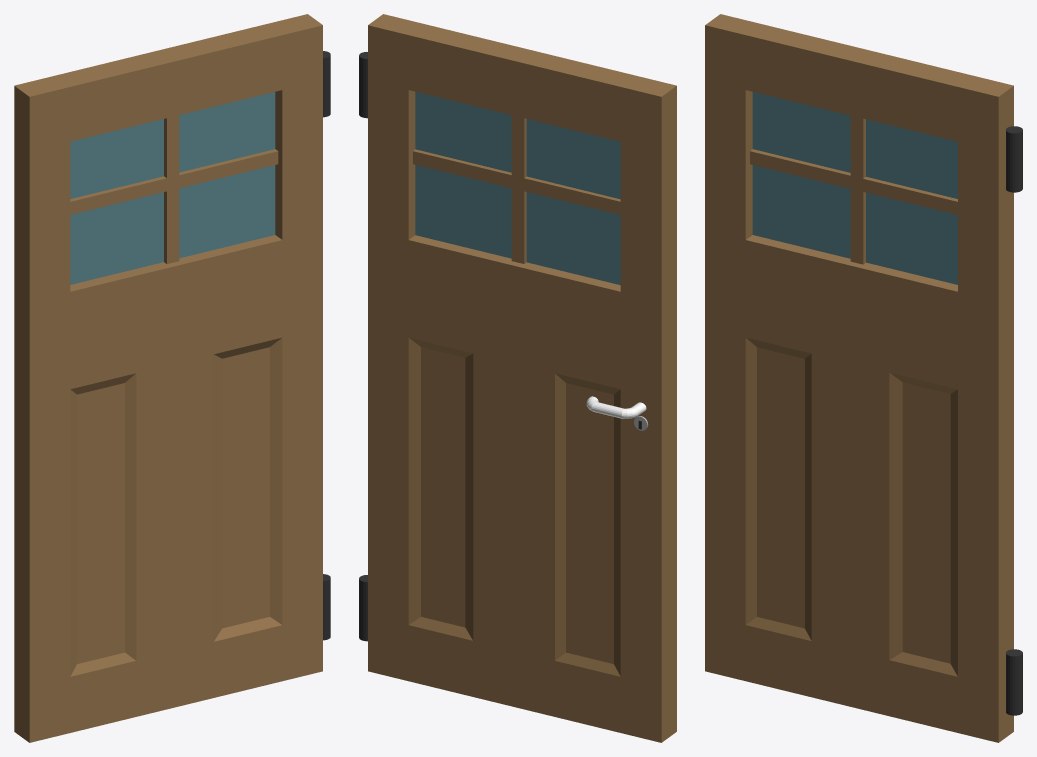
The model's file is tür.fbx.
3 views of the same model, side by side, from view 1: azimuth 30°, elevation 25°; view 2: azimuth 150°, elevation 25°; view 3: azimuth 330°, elevation 25° (orthographic).
Visible parts, largest first — view 1: door; view 2: door; view 3: door.
Boxes of the visible parts, x1,y1,x2,y2 form: door: [14, 14, 330, 742]; door: [359, 14, 676, 742]; door: [705, 14, 1022, 742].
Size of the model in its own units: 4.1 by 8.22 by 0.6736.
